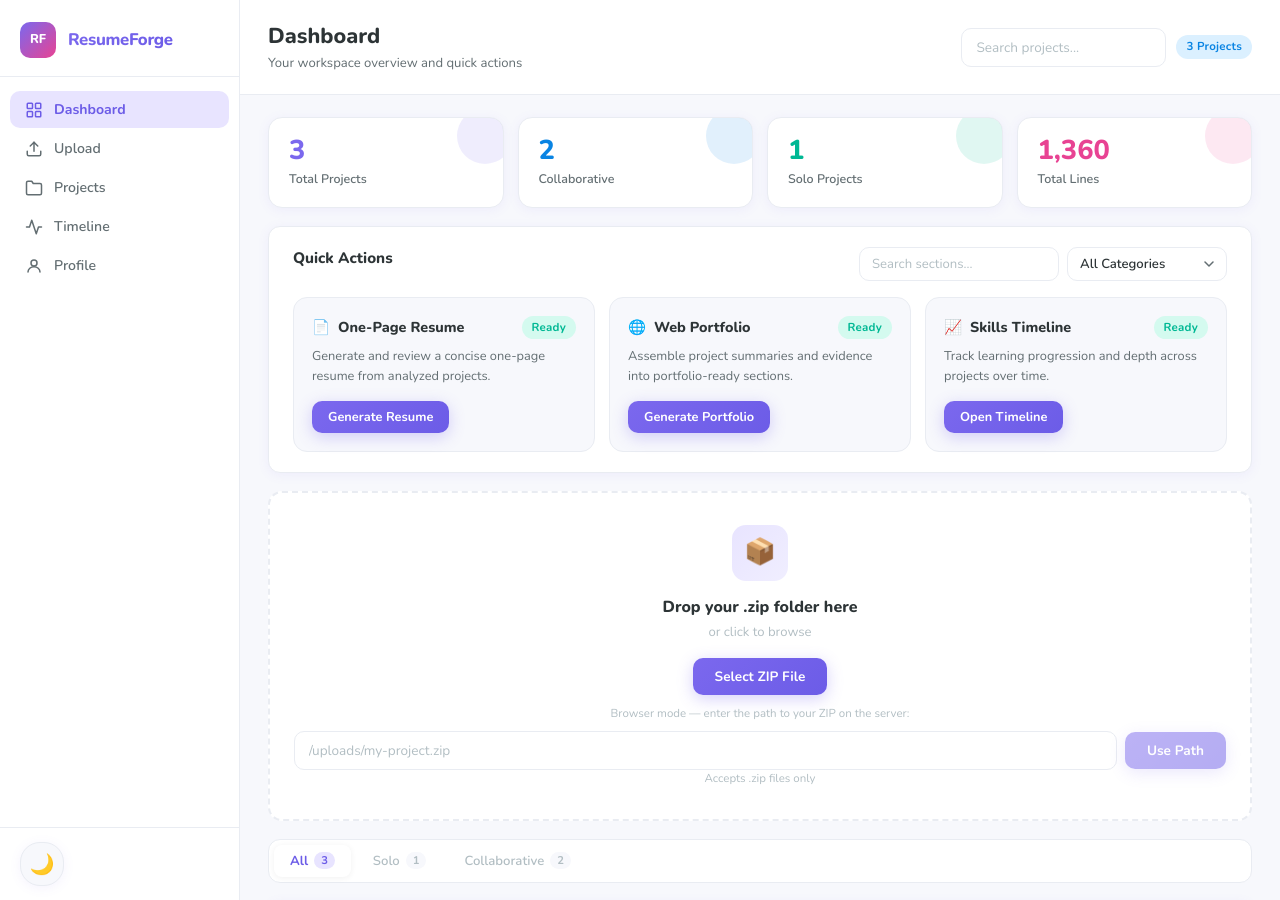
Test: App Layout › opens the resume modal with grouped sections and footer actions
Expected: the text "3 projects" is shown, [1176,35,1252,59]
What coordinates should you click on to do the following:
click the button "Generate Resume"
I would click on:
 (381, 417)
Its box is [312,401,449,433].
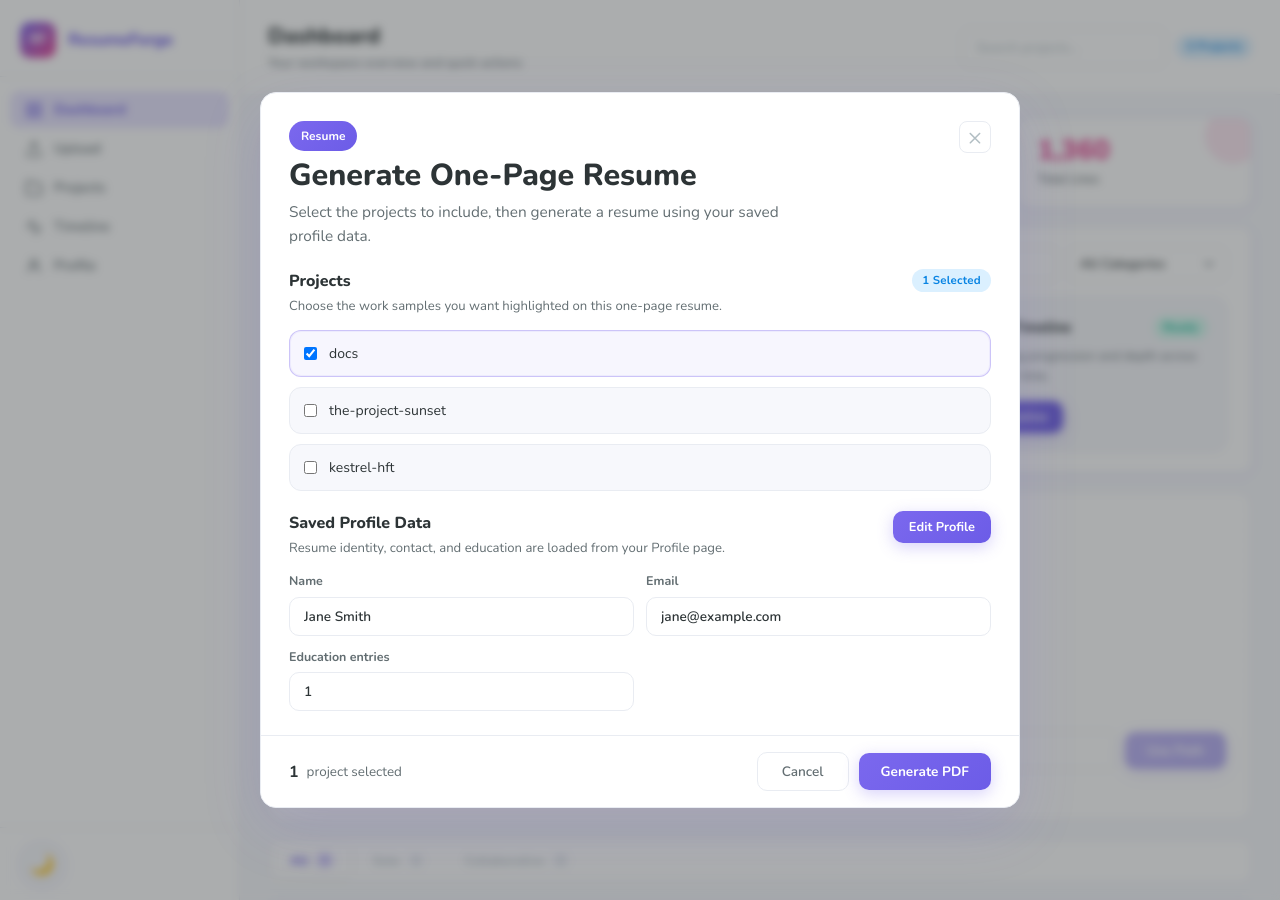
Expected: the dialog is shown
Expected: the heading "Generate One-Page Resume" is shown, [289,154,697,196]
Expected: the text "Choose the work samples you want highlighted on this one-page resume." is shown, [289,297,722,316]
